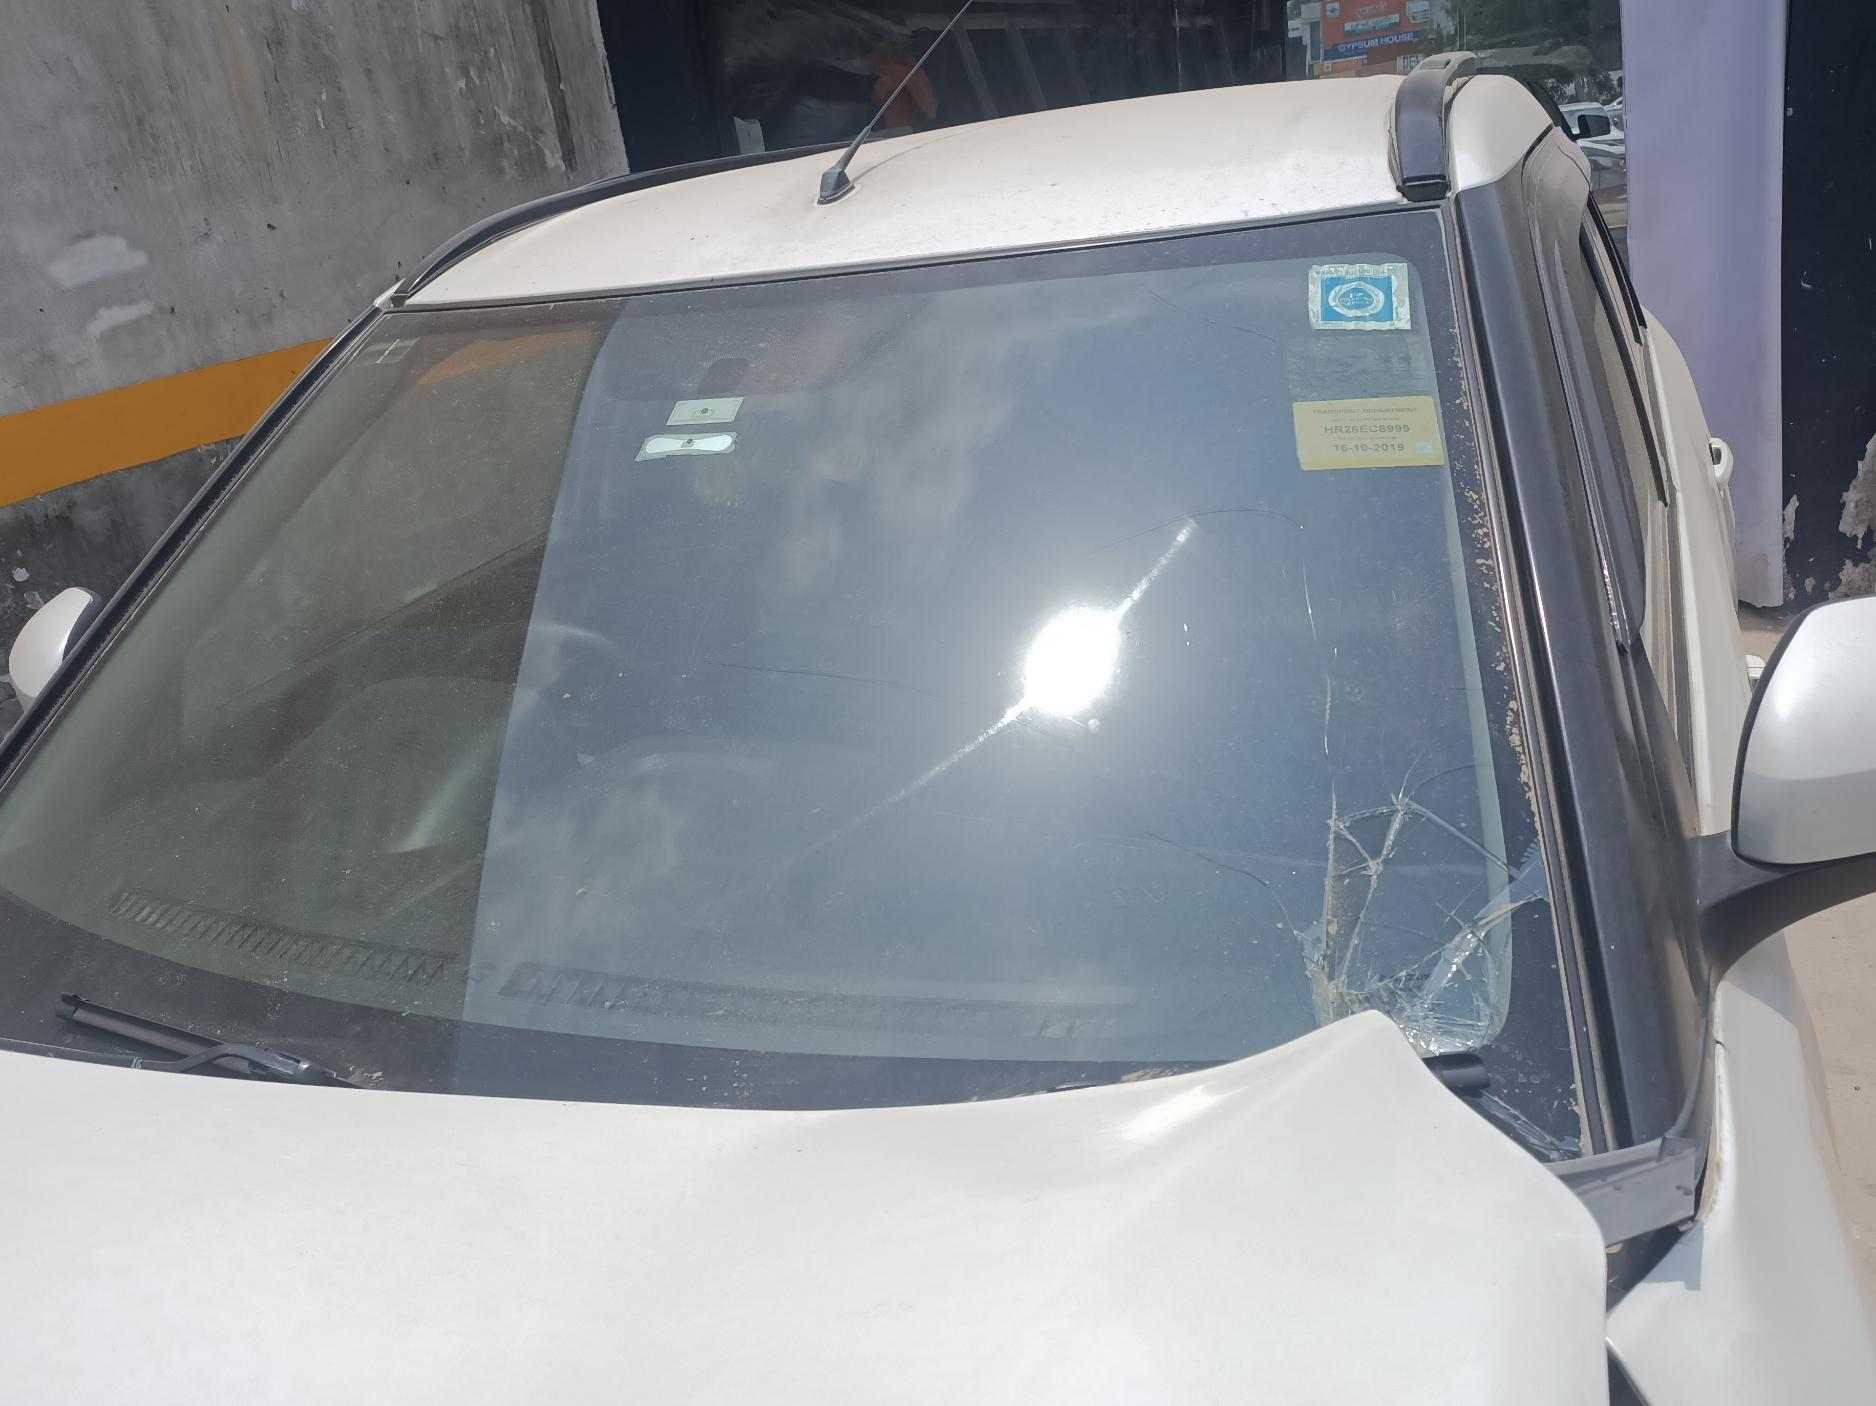FastTag: (634, 433, 744, 480)
not a FastTag: (1269, 378, 1451, 480), (1303, 253, 1420, 341), (668, 394, 744, 425)
